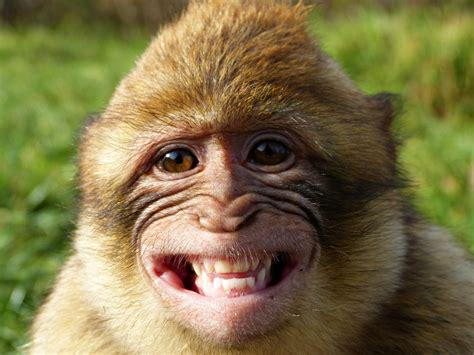monkey: (31, 4, 474, 355)
